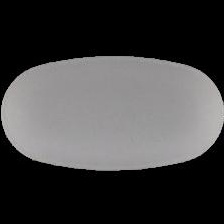60687-189: (0, 0, 224, 224)
